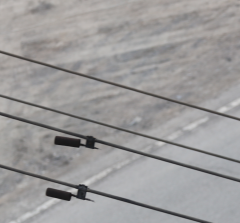damper_defect: (44, 182, 97, 204), (52, 131, 101, 151)
